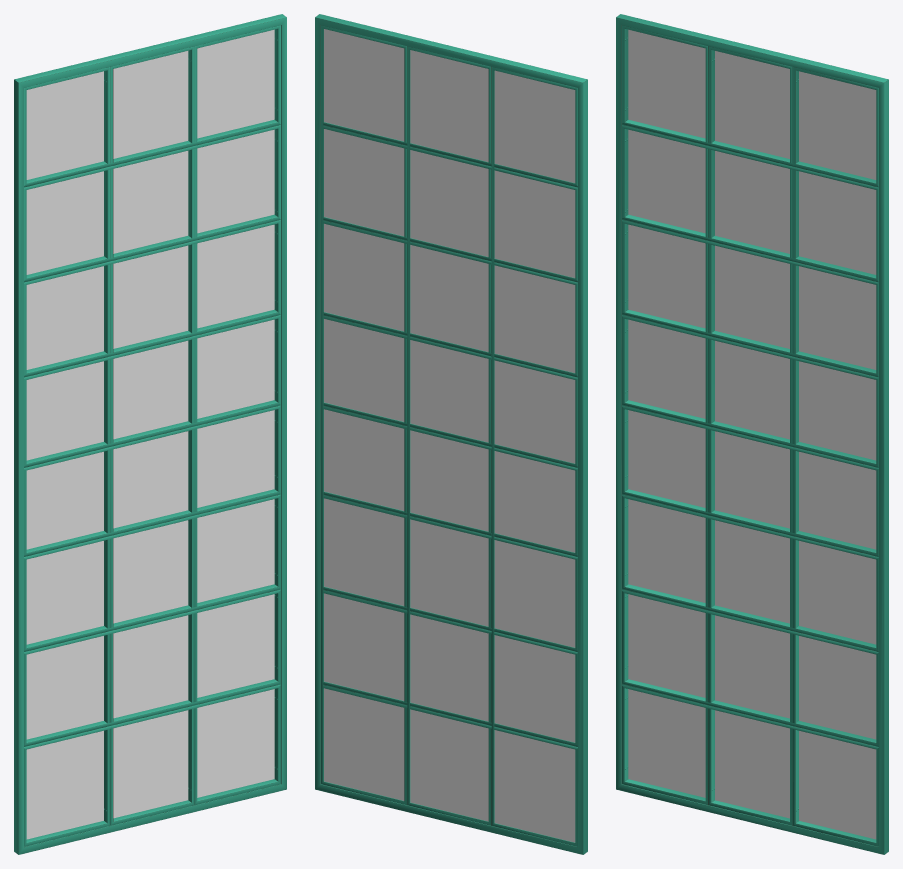
File: StudioLiveWallFrame_01_Mesh.fbx
3 views of the same model, side by side, from view 1: azimuth 30°, elevation 25°; view 2: azimuth 150°, elevation 25°; view 3: azimuth 330°, elevation 25° (orthographic).
Parts seen in each view (by area): view 1: studio_Live_wall_frame; view 2: studio_Live_wall_frame; view 3: studio_Live_wall_frame.
Boxes of the visible parts, left/top/right/bottom form: studio_Live_wall_frame: left=14, top=14, right=286, bottom=854; studio_Live_wall_frame: left=315, top=14, right=587, bottom=854; studio_Live_wall_frame: left=616, top=14, right=888, bottom=854.
Size of the model in its own units: 309 by 849 by 9.31.
